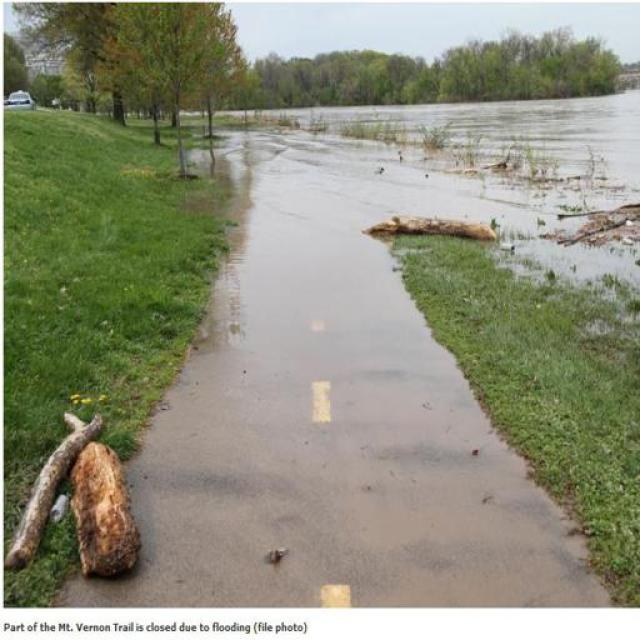puddle: (290, 99, 629, 209), (213, 117, 384, 248)
